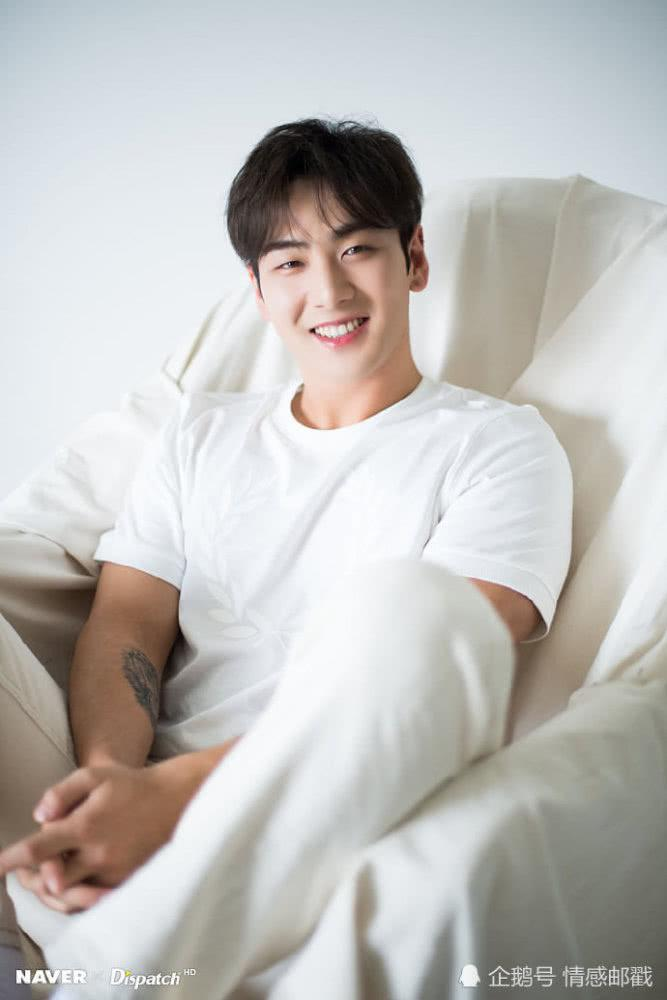person: (49, 128, 507, 933)
